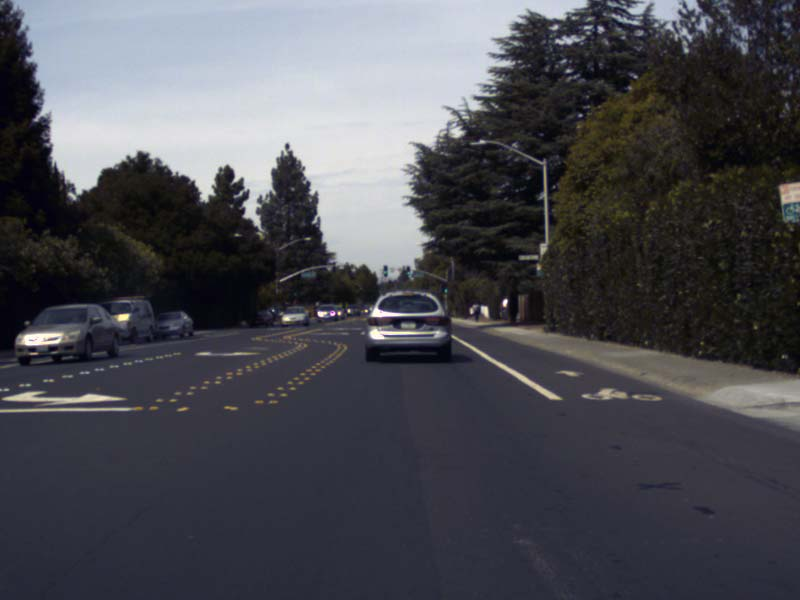Green: (443, 284, 447, 291), (406, 267, 409, 274), (384, 265, 386, 273)
